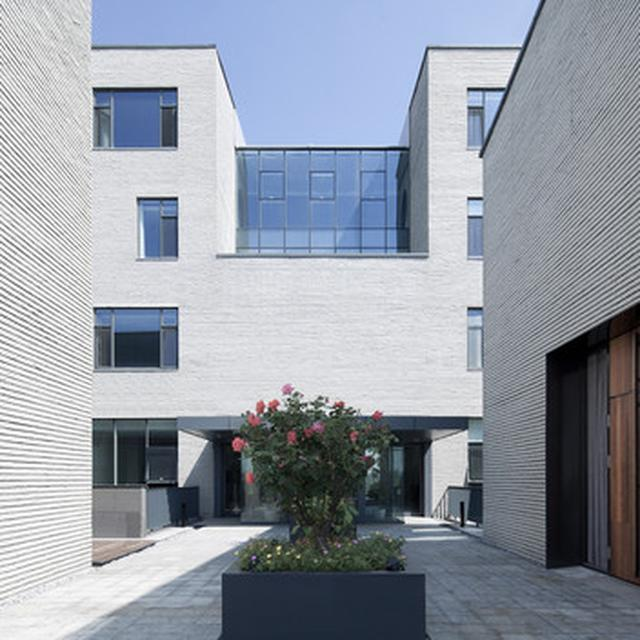building: (89, 44, 487, 545), (488, 0, 640, 593), (1, 0, 90, 613)
